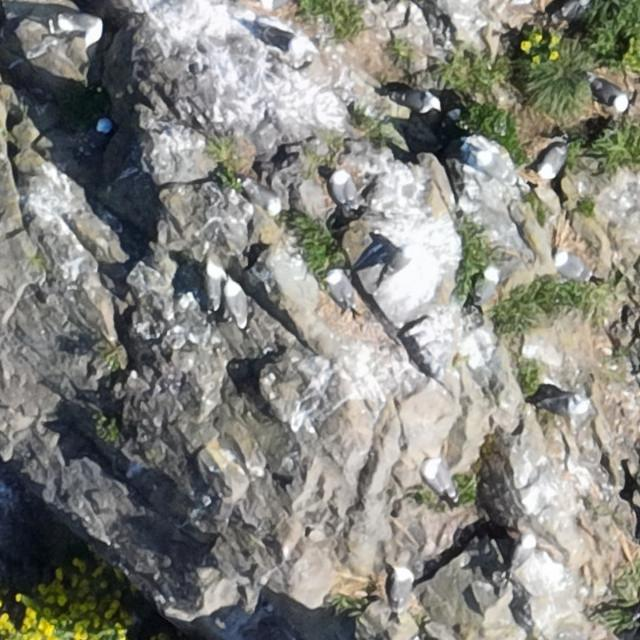umineko: (422, 458, 463, 508), (256, 22, 306, 58), (50, 11, 102, 45), (539, 389, 590, 420), (593, 81, 629, 110), (539, 145, 564, 178), (558, 255, 591, 279), (395, 91, 434, 111), (392, 569, 412, 606), (330, 272, 350, 308), (223, 283, 242, 319), (380, 252, 414, 271), (87, 119, 110, 147), (477, 270, 498, 300), (205, 264, 221, 302), (331, 174, 349, 204), (557, 0, 585, 18), (262, 0, 290, 8)
